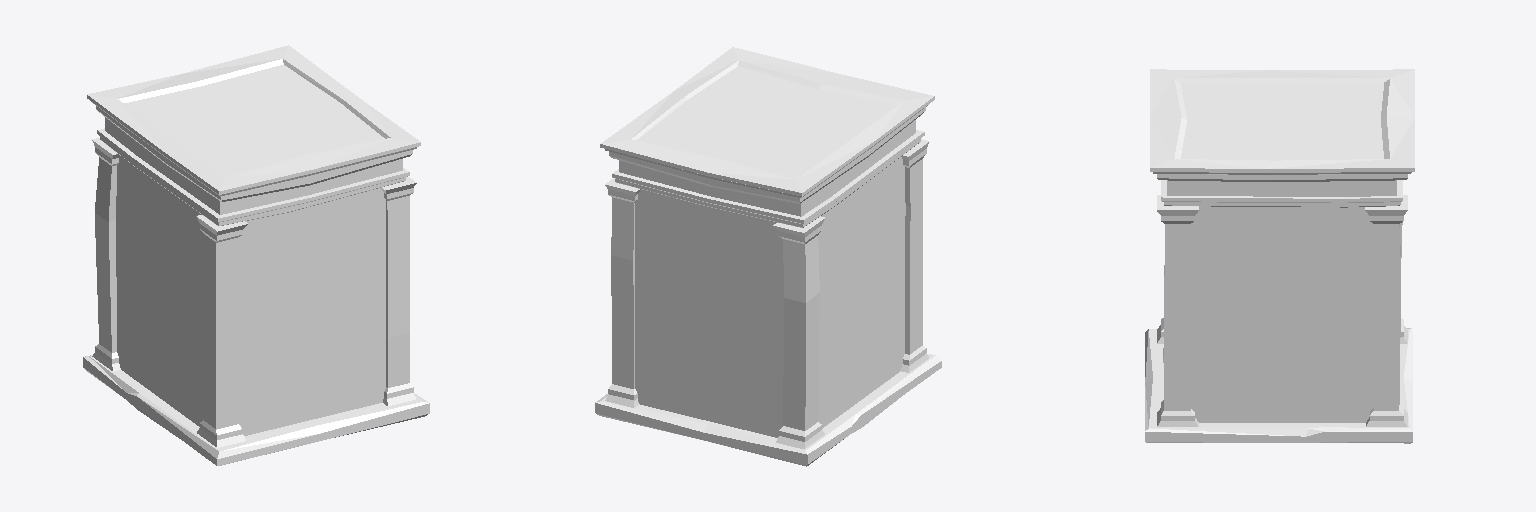
Rendered from Border.obj.
3 views of the same model, side by side, from view 1: azimuth 30°, elevation 25°; view 2: azimuth 150°, elevation 25°; view 3: azimuth 270°, elevation 25° (orthographic).
Parts seen in each view (by area): view 1: SM_Bld_Cuba_Hall_Room_03_Mesh; view 2: SM_Bld_Cuba_Hall_Room_03_Mesh; view 3: SM_Bld_Cuba_Hall_Room_03_Mesh.
Part boxes in pixels (x1,y1,x2,y2): SM_Bld_Cuba_Hall_Room_03_Mesh: (83,45,429,465); SM_Bld_Cuba_Hall_Room_03_Mesh: (595,47,941,466); SM_Bld_Cuba_Hall_Room_03_Mesh: (1145,69,1414,443).
Size of the model in its own units: 1.62 by 1.99 by 1.77.